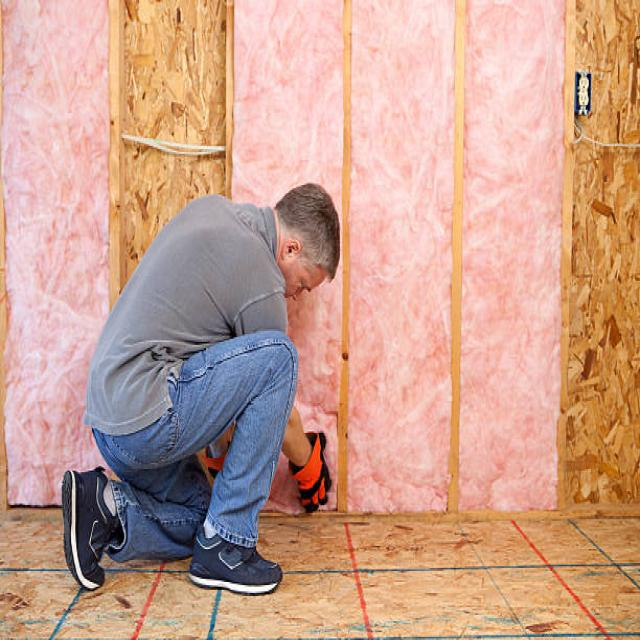gloves: (290, 425, 332, 513), (205, 439, 231, 478)
